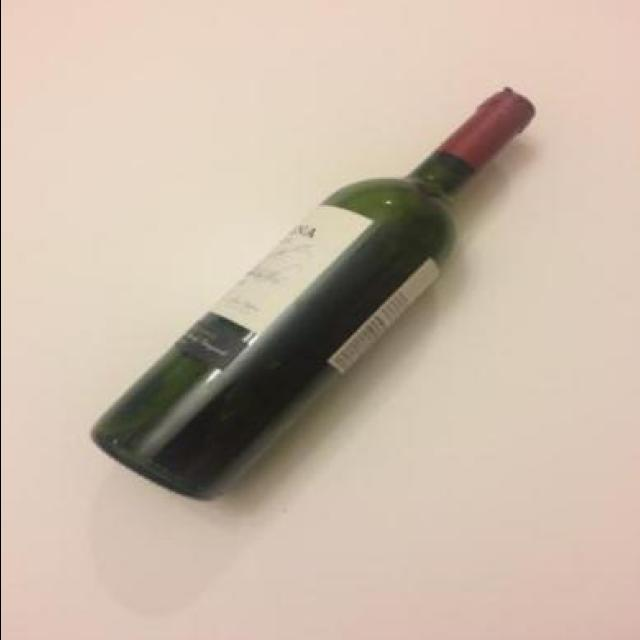kaca: (90, 92, 534, 499)
